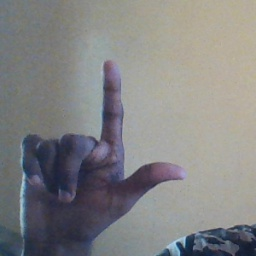L: (15, 59, 185, 243)
